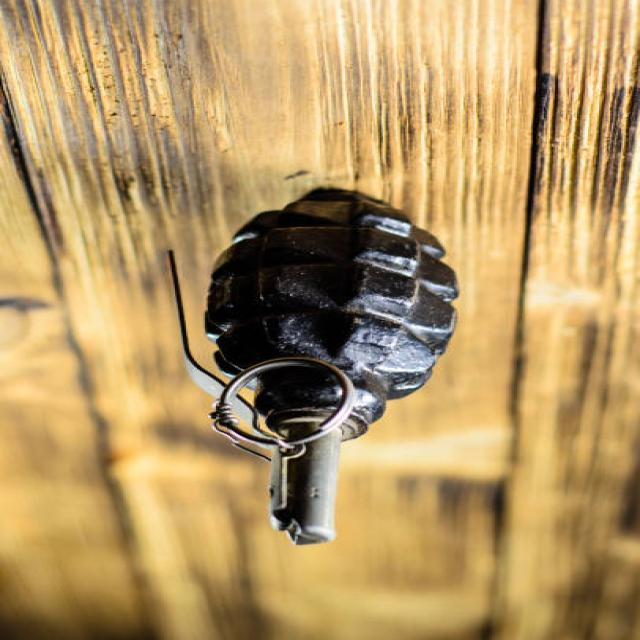grenade: (147, 177, 481, 555)
